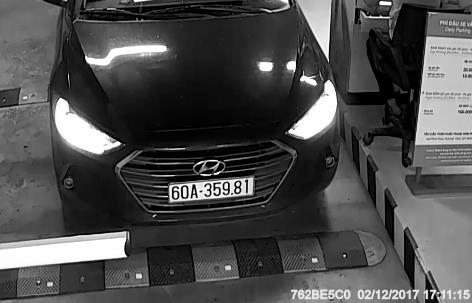License-plate: (159, 170, 264, 210)
